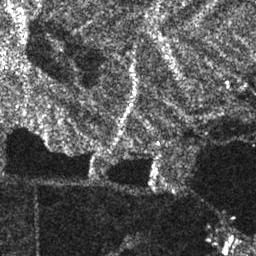ship: (218, 232, 234, 254)
